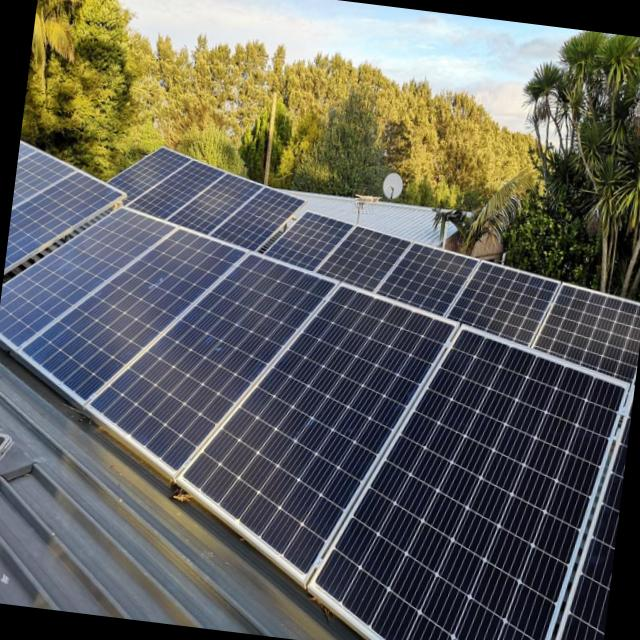no faulty: (271, 202, 640, 383), (9, 144, 114, 271)
